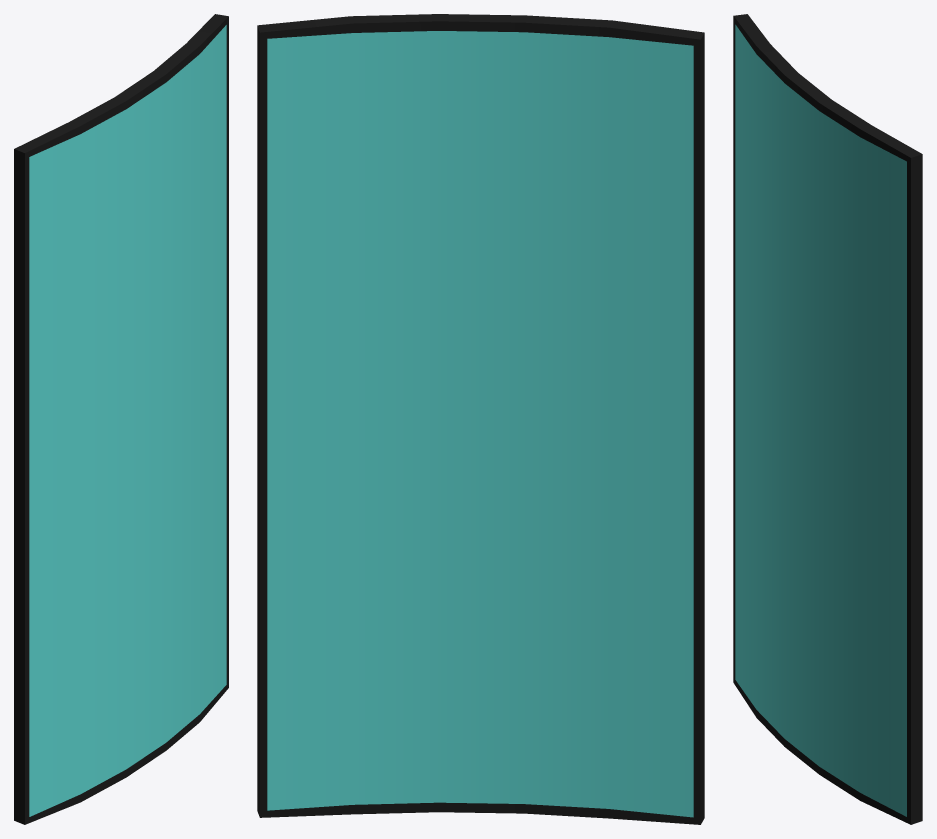
File: elevator_door_r.fbx
3 renders of one model, left to right at view 1: azimuth 30°, elevation 25°; view 2: azimuth 150°, elevation 25°; view 3: azimuth 270°, elevation 25°, orthographic. The views are drawn at different scales.
Parts seen in each view (by area): view 1: elevator_door_r; view 2: elevator_door_r; view 3: elevator_door_r.
Boxes of the visible parts, x1,y1,x2,y2 form: elevator_door_r: [14, 14, 228, 824]; elevator_door_r: [257, 14, 704, 824]; elevator_door_r: [733, 14, 922, 824].
Size of the model in its own units: 131 by 286 by 72.95.
